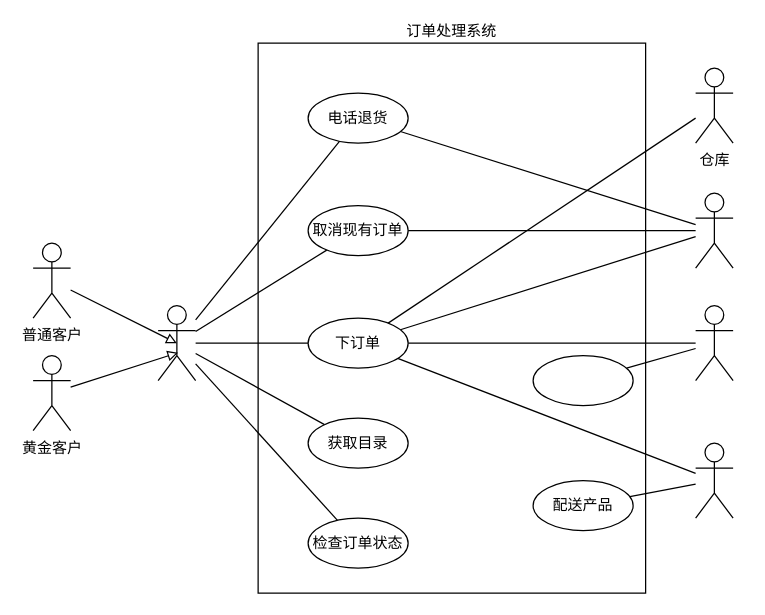
The diagram is 765 pixels wide and 615 high, and some of its shapes have lost their labels. The shapes that lost their labels are listed below. From the top down, each one's centre as x and y in pixels, then its label:
the point at 713,230: 客户代表
the point at 176,342: 客户
the point at 713,342: 会计系统
the point at 582,380: 统计消费金额
the point at 713,480: 运输公司
